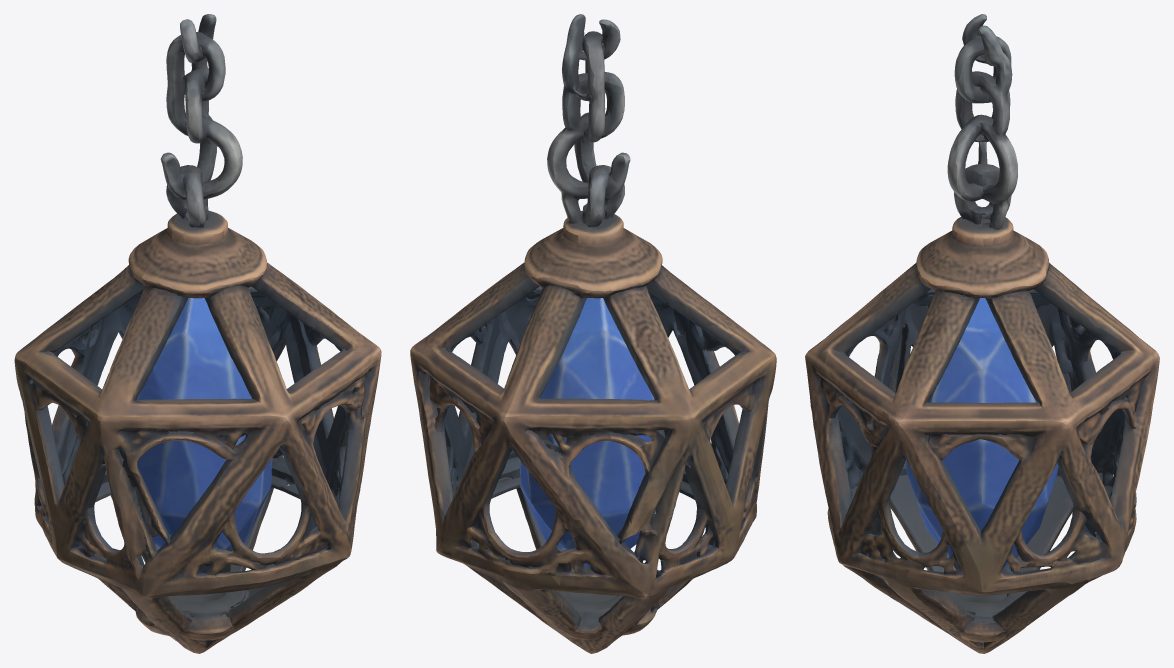
Rendered from lantern.glb.
3 views of the same model, side by side, from view 1: azimuth 30°, elevation 25°; view 2: azimuth 150°, elevation 25°; view 3: azimuth 270°, elevation 25° (orthographic).
Parts seen in each view (by area): view 1: world; view 2: world; view 3: world.
Boxes of the visible parts, box(x1,y1,x2,y2) form: world: box(14, 14, 381, 653); world: box(410, 14, 776, 653); world: box(805, 14, 1159, 653).
Size of the model in its own units: 0.103 by 0.22 by 0.1119.
1 material, 1 textured.
